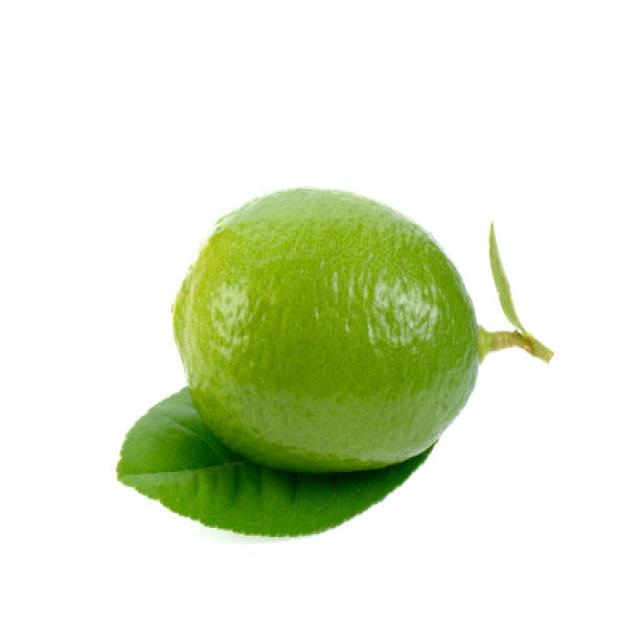Lemon: (165, 182, 482, 474)
